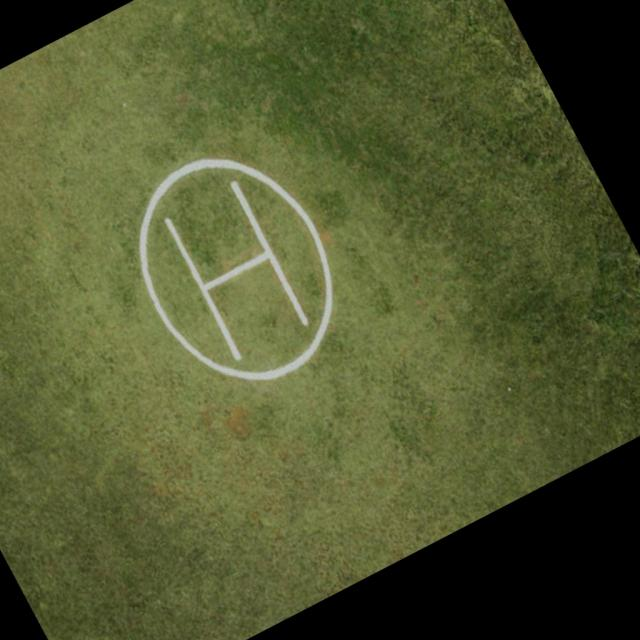helipad: (132, 153, 337, 384)
